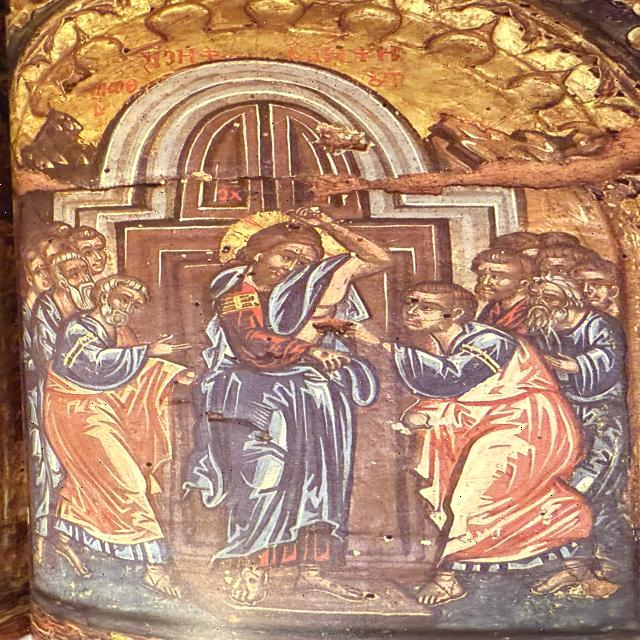aura: (217, 211, 353, 284)
christ: (196, 207, 415, 601)
